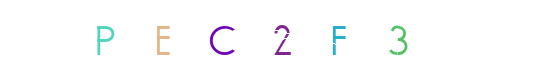2: (213, 0, 293, 80)
3: (360, 0, 440, 80)
C: (208, 0, 288, 80)
E: (177, 0, 257, 80)
F: (230, 0, 310, 80)
P: (121, 0, 201, 80)
